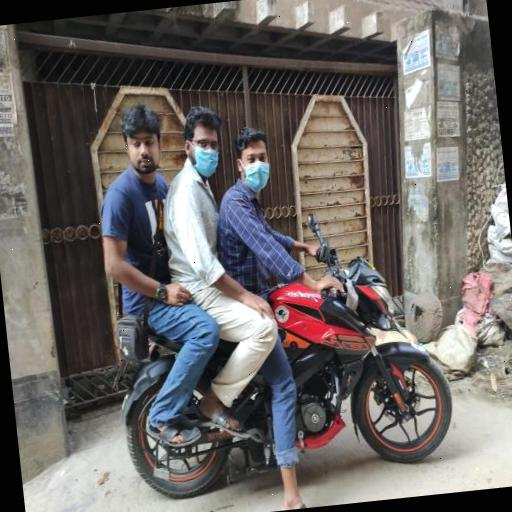no helmet: (220, 108, 300, 238)
triple riding: (80, 50, 470, 512)
